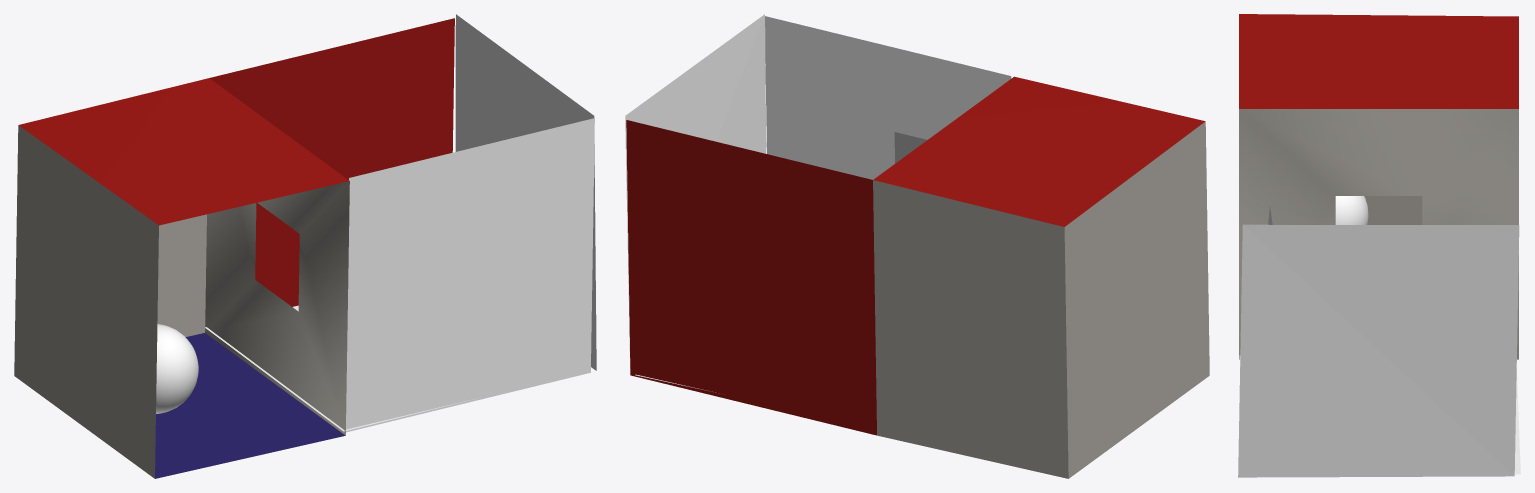
File: inner_room.obj
3 views of the same model, side by side, from view 1: azimuth 30°, elevation 25°; view 2: azimuth 150°, elevation 25°; view 3: azimuth 270°, elevation 25° (orthographic).
Parts seen in each view (by area): view 1: new_model; view 2: new_model; view 3: new_model.
Part boxes in pixels (x1,y1,x2,y2): new_model: [14, 14, 596, 478]; new_model: [625, 14, 1209, 478]; new_model: [1238, 14, 1520, 477].
Bounding box in the file's own units: 3.68 × 2.05 × 2.05.
